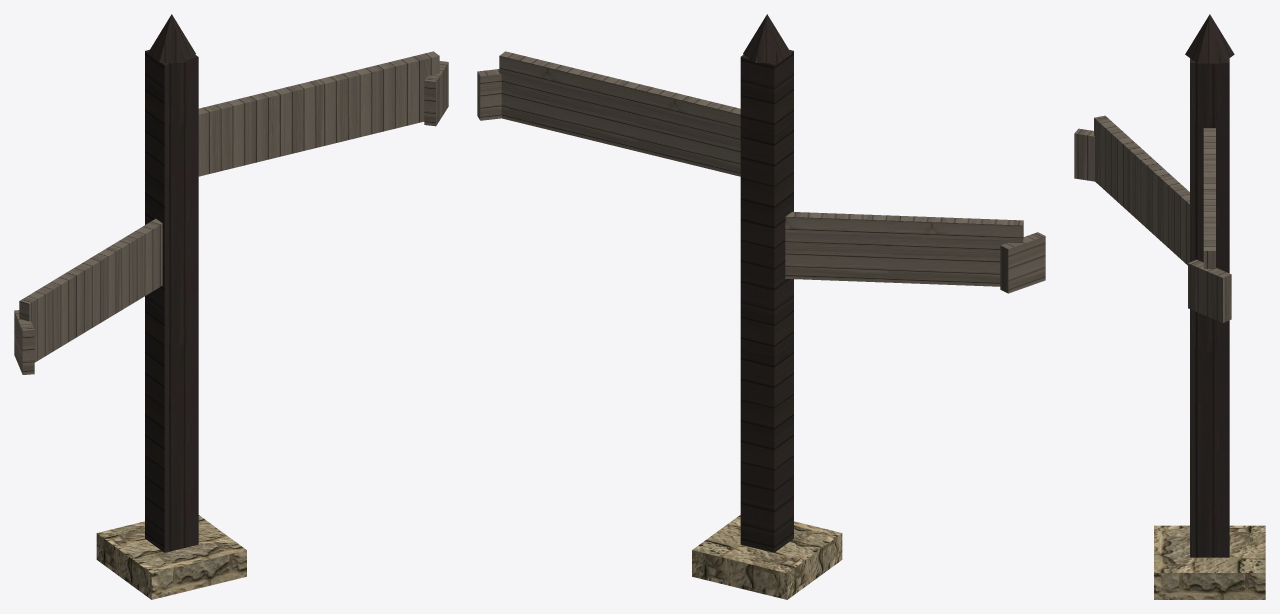
Rendered from signpost_01.glb.
3 renders of one model, left to right at view 1: azimuth 30°, elevation 25°; view 2: azimuth 150°, elevation 25°; view 3: azimuth 270°, elevation 25°, orthographic.
Parts seen in each view (by area): view 1: signpost_01; view 2: signpost_01; view 3: signpost_01.
Boxes of the visible parts, bbox=[...] form: signpost_01: bbox=[14, 14, 448, 599]; signpost_01: bbox=[477, 14, 1045, 599]; signpost_01: bbox=[1074, 14, 1265, 599].
Size of the model in its own units: 2.35 by 2.5 by 0.7713.
Materials: 3 (3 with a texture image).
